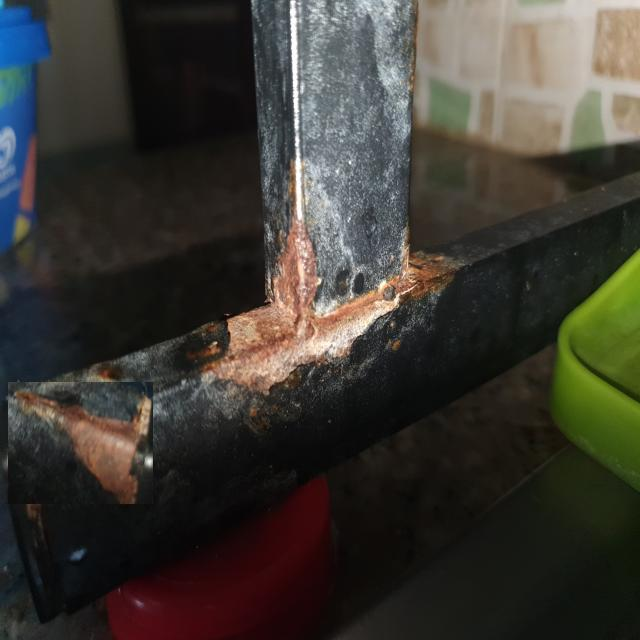Corrosion: (202, 182, 454, 394), (14, 393, 150, 504)
